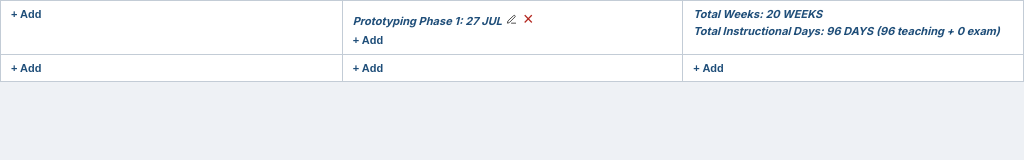
Test: InfoStrip › opens an existing event's edit form pre-filled, and reschedules on save
Later steps or results of the test are not shown.
Click the button titled "Edit this entry" at (510, 20), box [502, 14, 517, 27]
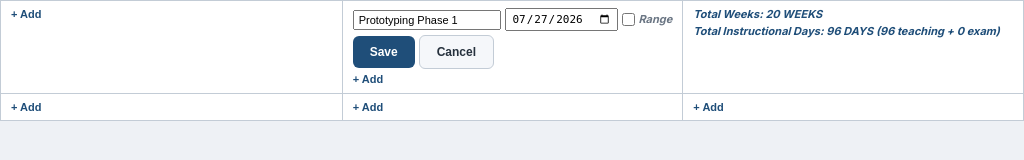
Now the number of date fields is 1, box [505, 8, 618, 31]
